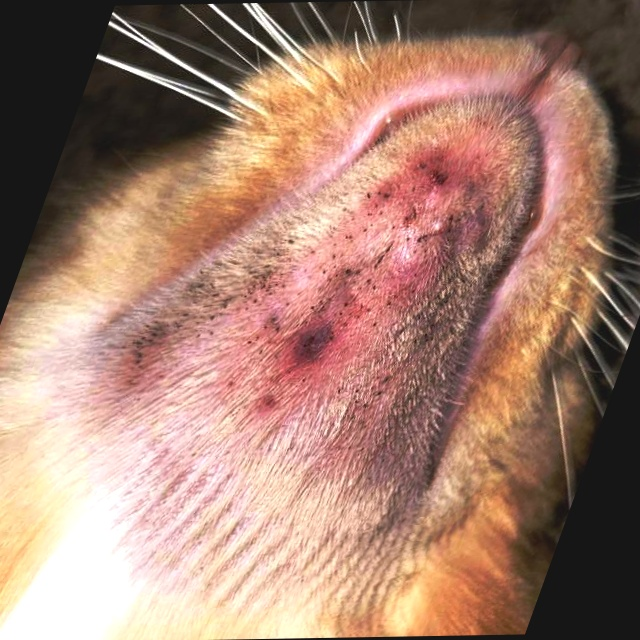acne: (84, 157, 530, 431)
